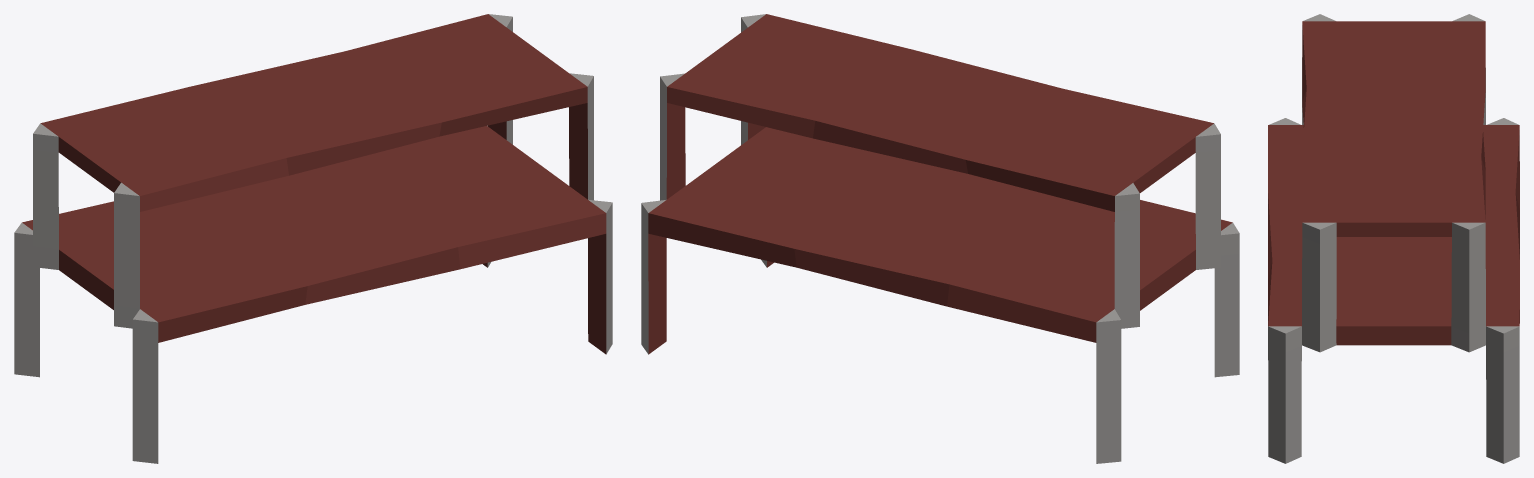
Rendered from SM_Prop_Shelves_02.fbx.
The picture shows the model from 3 angles, left to right: view 1: azimuth 30°, elevation 25°; view 2: azimuth 150°, elevation 25°; view 3: azimuth 270°, elevation 25°; orthographic projection. The views are drawn at different scales.
Visible parts, largest first — view 1: SM_Prop_Shelves_02; view 2: SM_Prop_Shelves_02; view 3: SM_Prop_Shelves_02.
Part boxes in pixels (x1,y1,x2,y2): SM_Prop_Shelves_02: (14,14,612,463); SM_Prop_Shelves_02: (641,14,1239,463); SM_Prop_Shelves_02: (1268,14,1519,463).
Size of the model in its own units: 239 by 121 by 118.
